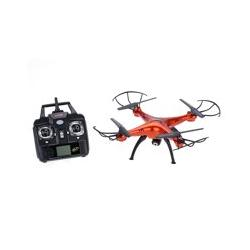drone: (93, 90, 223, 166)
